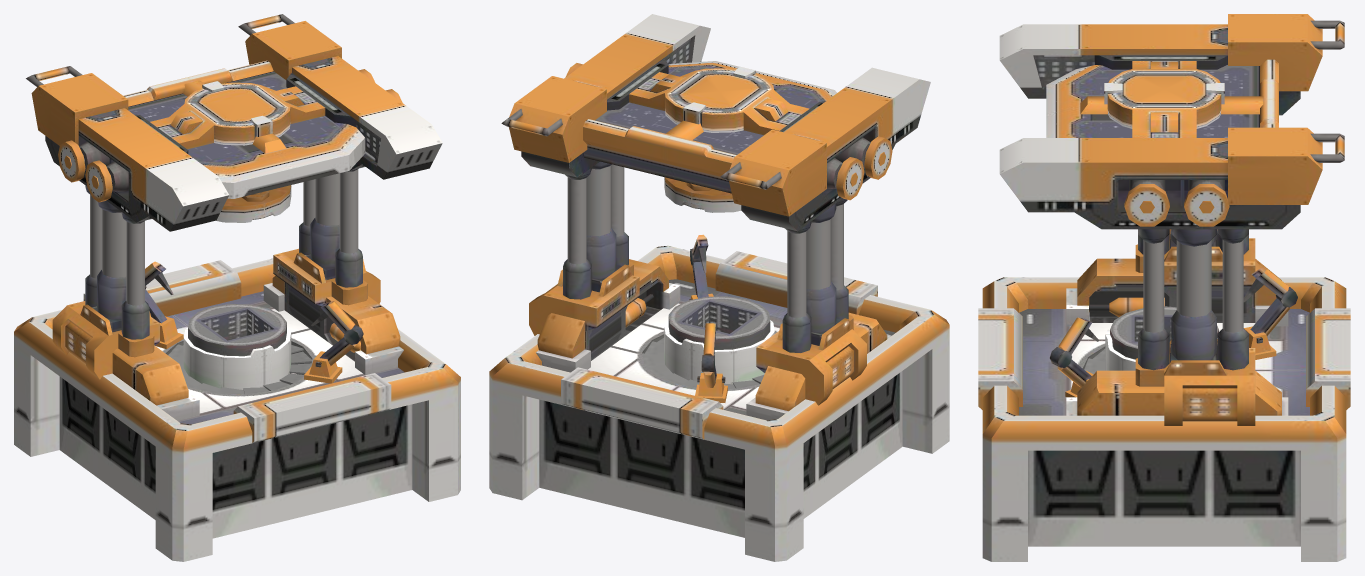
3 views of the same model, side by side, from view 1: azimuth 30°, elevation 25°; view 2: azimuth 150°, elevation 25°; view 3: azimuth 270°, elevation 25° (orthographic). The views are drawn at different scales.
Visible parts, largest first — view 1: assembler-mk-1; view 2: assembler-mk-1; view 3: assembler-mk-1.
Part boxes in pixels (x1,y1,x2,y2): assembler-mk-1: (14, 14, 460, 561); assembler-mk-1: (489, 14, 949, 561); assembler-mk-1: (978, 14, 1350, 561).
Bounding box in the file's own units: 4.17 × 4.85 × 4.09.
1 material, 1 textured.
